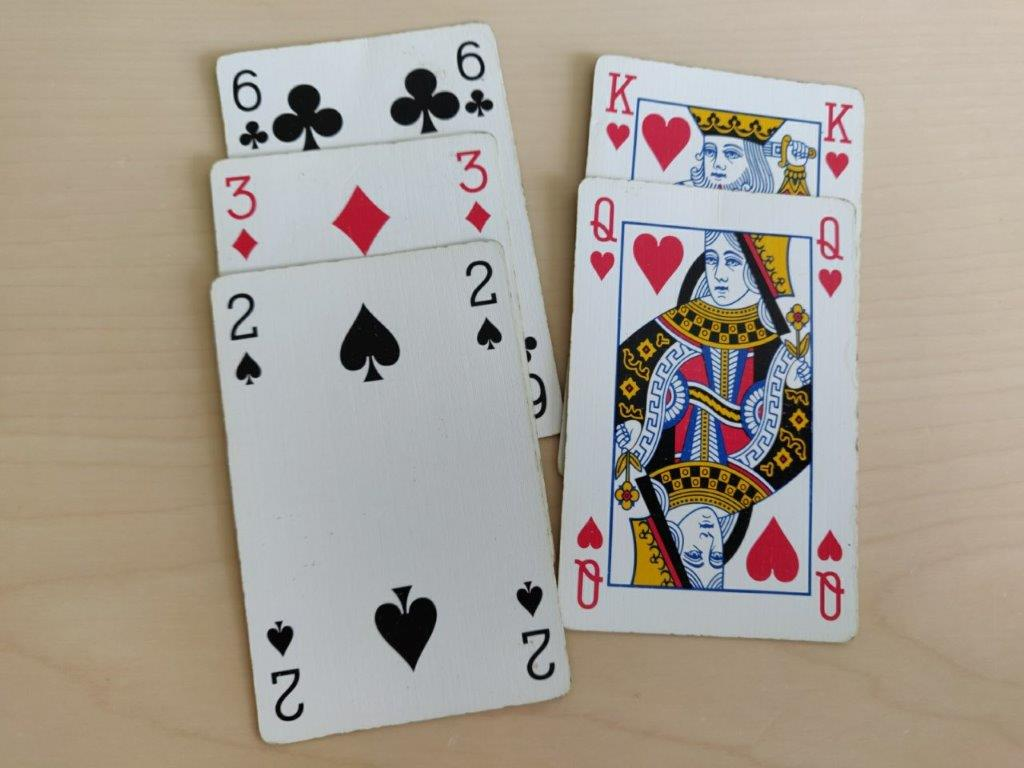2S: (460, 253, 508, 358), (220, 287, 269, 389)
3D: (449, 142, 502, 240), (218, 168, 263, 264)
6C: (225, 62, 275, 157), (451, 37, 500, 123)
KH: (817, 95, 858, 183), (603, 67, 638, 154)
QH: (811, 212, 850, 304), (587, 191, 621, 285)
